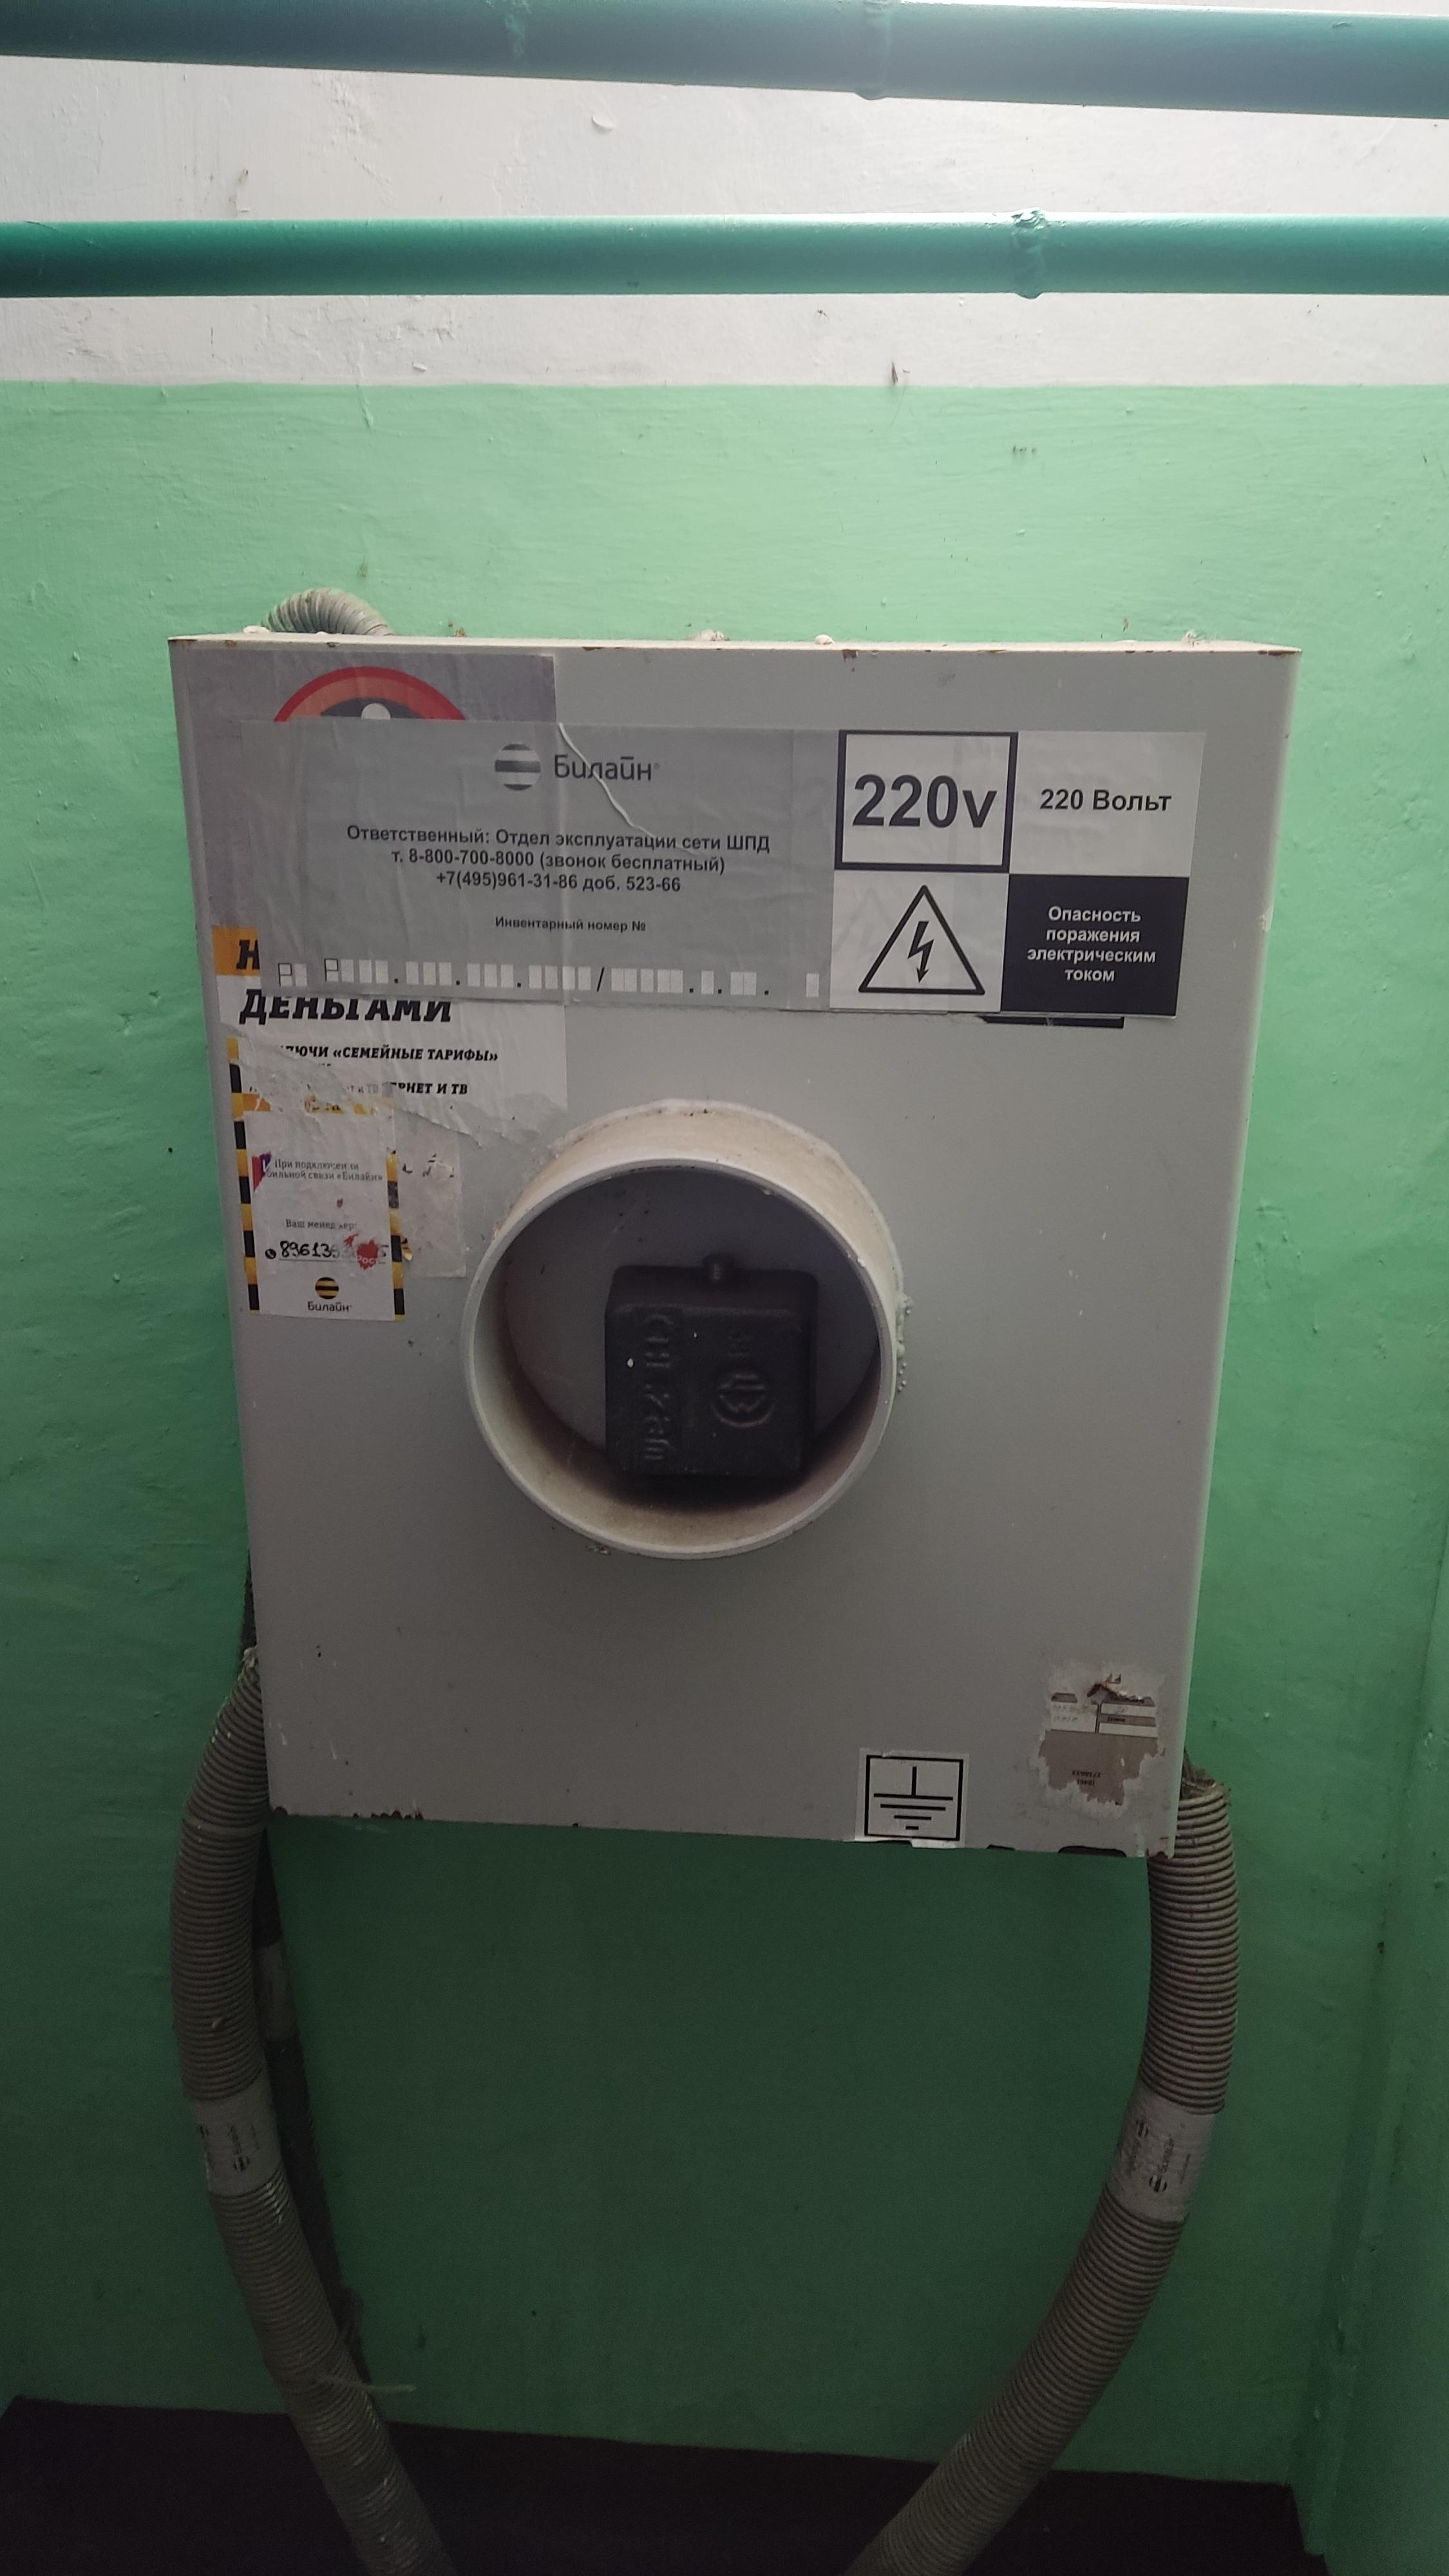shta-3: (124, 568, 1322, 1913)
